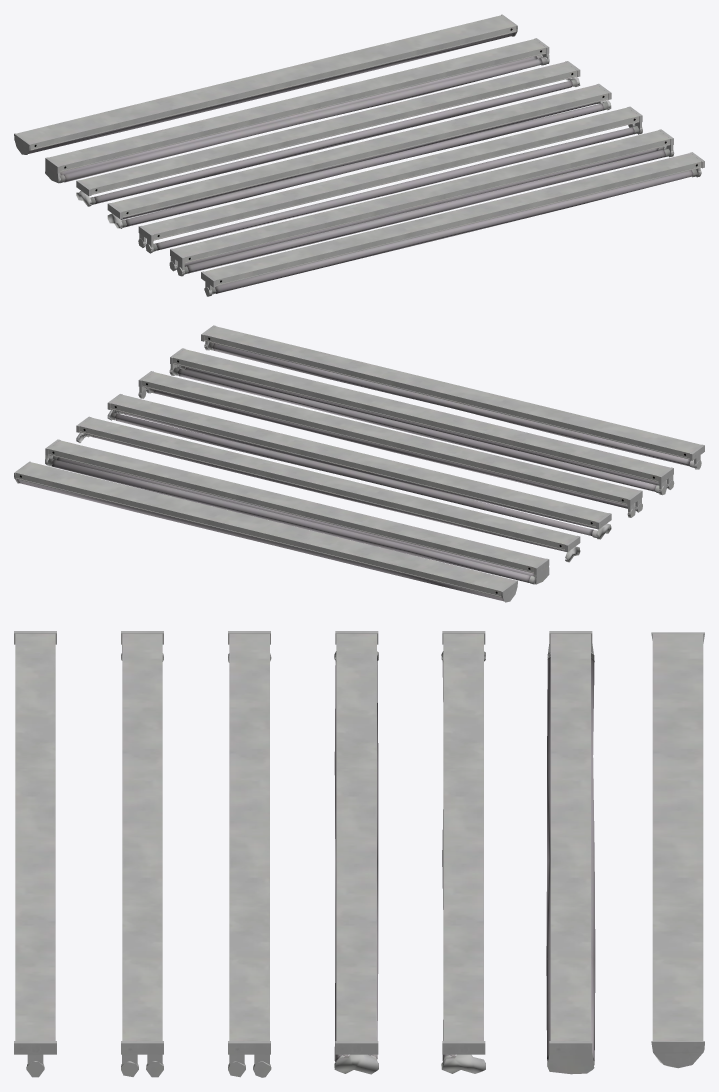
File: mounted_fluorescent_lights.glb
3 renders of one model, top to bottom at view 1: azimuth 30°, elevation 25°; view 2: azimuth 150°, elevation 25°; view 3: azimuth 270°, elevation 25°, orthographic. The views are drawn at different scales.
Parts seen in each view (by area): view 1: mounted_fluorescent_lights_a; view 2: mounted_fluorescent_lights_a; view 3: mounted_fluorescent_lights_a.
Part boxes in pixels (<box>): mounted_fluorescent_lights_a: <box>14,14,704,296</box>; mounted_fluorescent_lights_a: <box>14,325,704,602</box>; mounted_fluorescent_lights_a: <box>14,631,704,1077</box>.
Bounding box in the file's own units: 0.9122 × 0.0353 × 0.6453.
2 materials, 2 textured.
